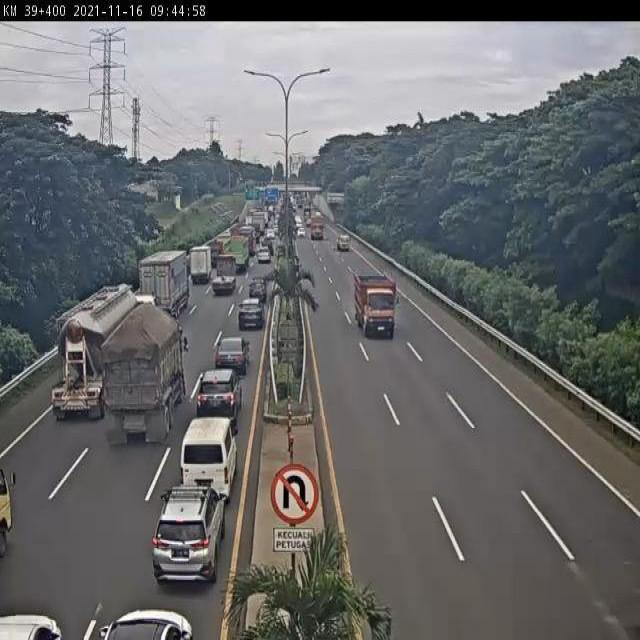car: (151, 488, 224, 581), (196, 366, 242, 418), (213, 343, 246, 377), (239, 299, 266, 332), (246, 283, 264, 308)
small bus: (179, 420, 237, 497)
truck-l-: (104, 308, 183, 447), (137, 250, 184, 322), (224, 236, 249, 272)
truck-m-: (356, 272, 397, 340), (209, 256, 238, 299), (186, 244, 211, 285)
truck-xl-: (53, 285, 163, 423)
